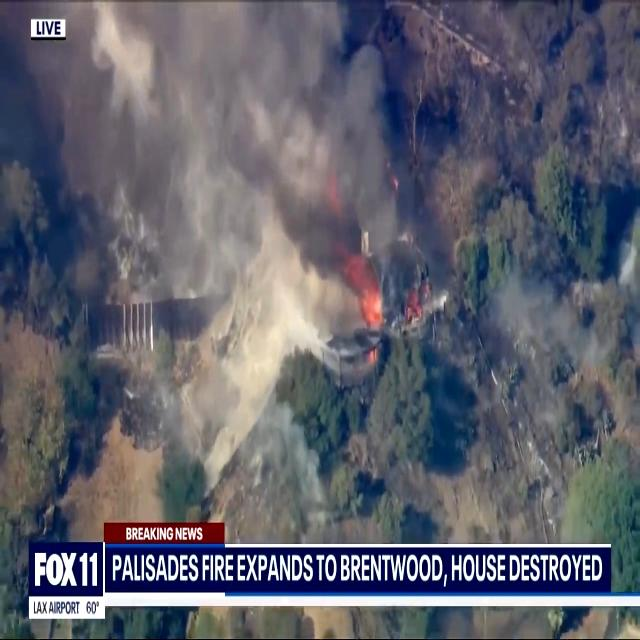Smoke: (103, 0, 425, 258)
